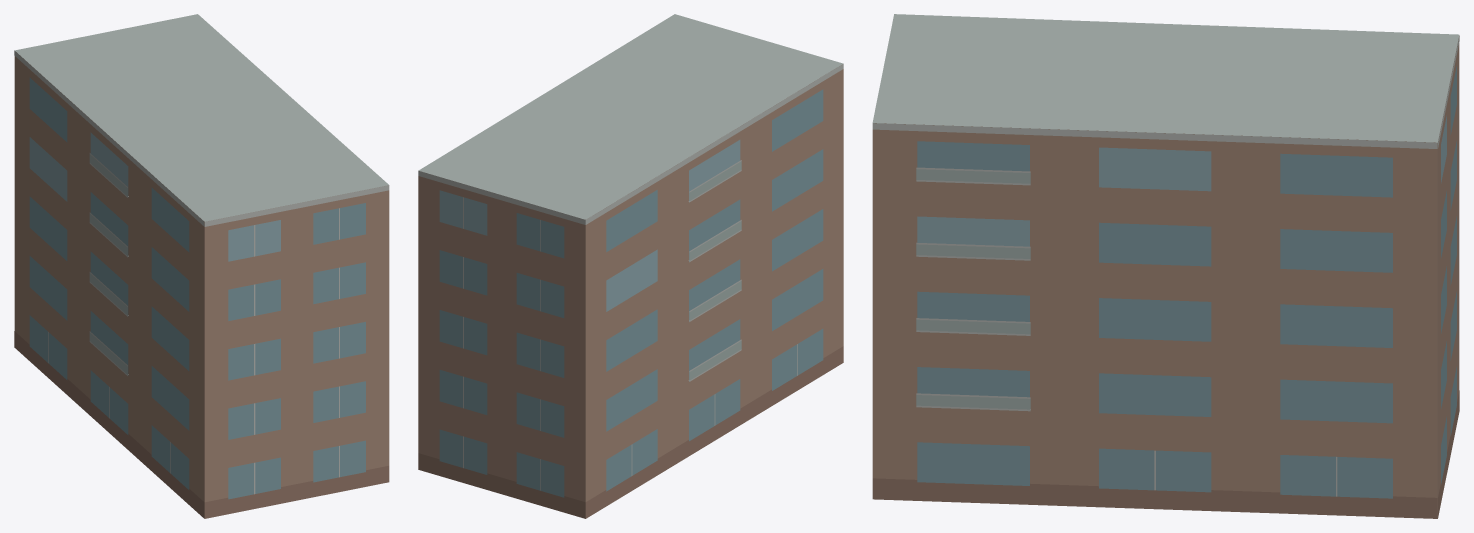
Rendered from survey-upis-32837867.glb.
3 renders of one model, left to right at view 1: azimuth 30°, elevation 25°; view 2: azimuth 150°, elevation 25°; view 3: azimuth 270°, elevation 25°, orthographic. The views are drawn at different scales.
Parts seen in each view (by area): view 1: survey-upis-32837867.tmp; view 2: survey-upis-32837867.tmp; view 3: survey-upis-32837867.tmp.
Part boxes in pixels (x1=…): survey-upis-32837867.tmp: x1=14, y1=14, x2=389, y2=518; survey-upis-32837867.tmp: x1=418, y1=14, x2=843, y2=518; survey-upis-32837867.tmp: x1=872, y1=14, x2=1459, y2=518.
Bounding box in the file's own units: 10.19 × 13.9 × 19.66.
